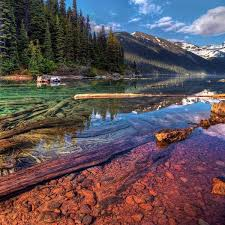lake: (5, 79, 219, 225)
mountain: (9, 16, 218, 82)
sky: (96, 5, 225, 42)
